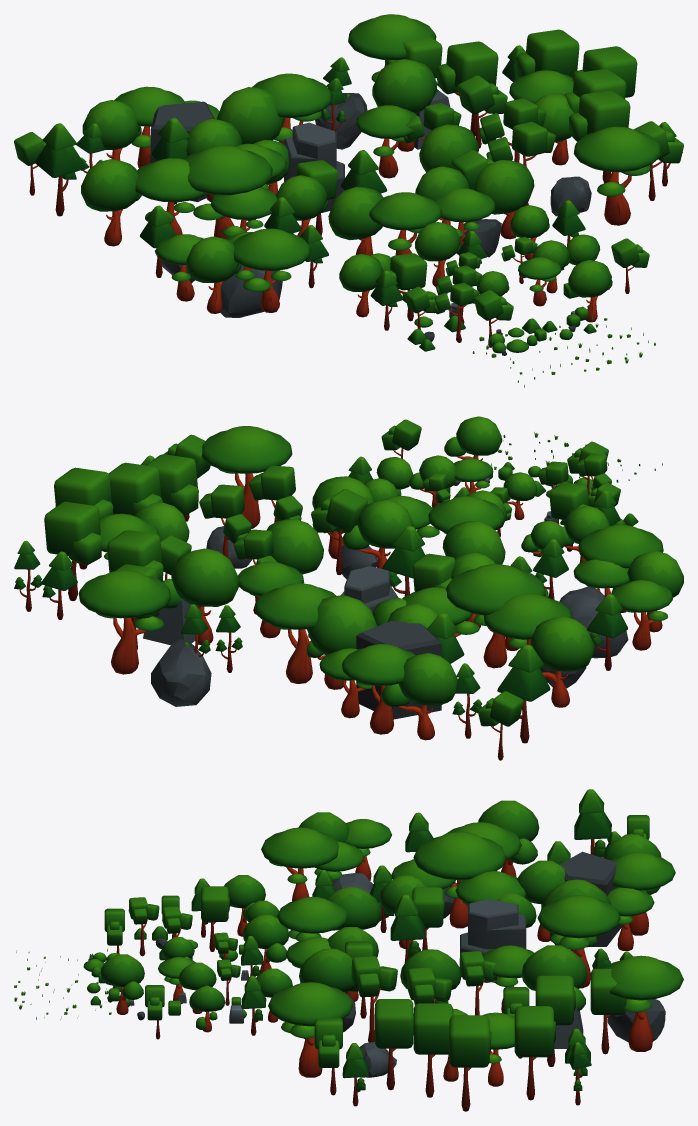
File: level_1.glb
3 views of the same model, one above another, from view 1: azimuth 30°, elevation 25°; view 2: azimuth 150°, elevation 25°; view 3: azimuth 270°, elevation 25° (orthographic). The views are drawn at different scales.
Parts seen in each view (by area): view 1: Ortam_3, Ortam_2, Ortam_1; view 2: Ortam_3, Ortam_2, Ortam_1; view 3: Ortam_3, Ortam_2, Ortam_1.
Boxes of the visible parts, x1,y1,x2,y2 form: Ortam_3: (14, 29, 683, 317); Ortam_2: (156, 14, 682, 351); Ortam_1: (472, 260, 655, 387); Ortam_3: (14, 426, 663, 760); Ortam_2: (41, 419, 683, 718); Ortam_1: (444, 416, 662, 497); Ortam_3: (261, 789, 675, 1111); Ortam_2: (96, 812, 683, 1106); Ortam_1: (14, 908, 144, 1019).
Bounding box in the file's own units: 64.35 × 13.33 × 73.56.
1 material, 1 textured.
